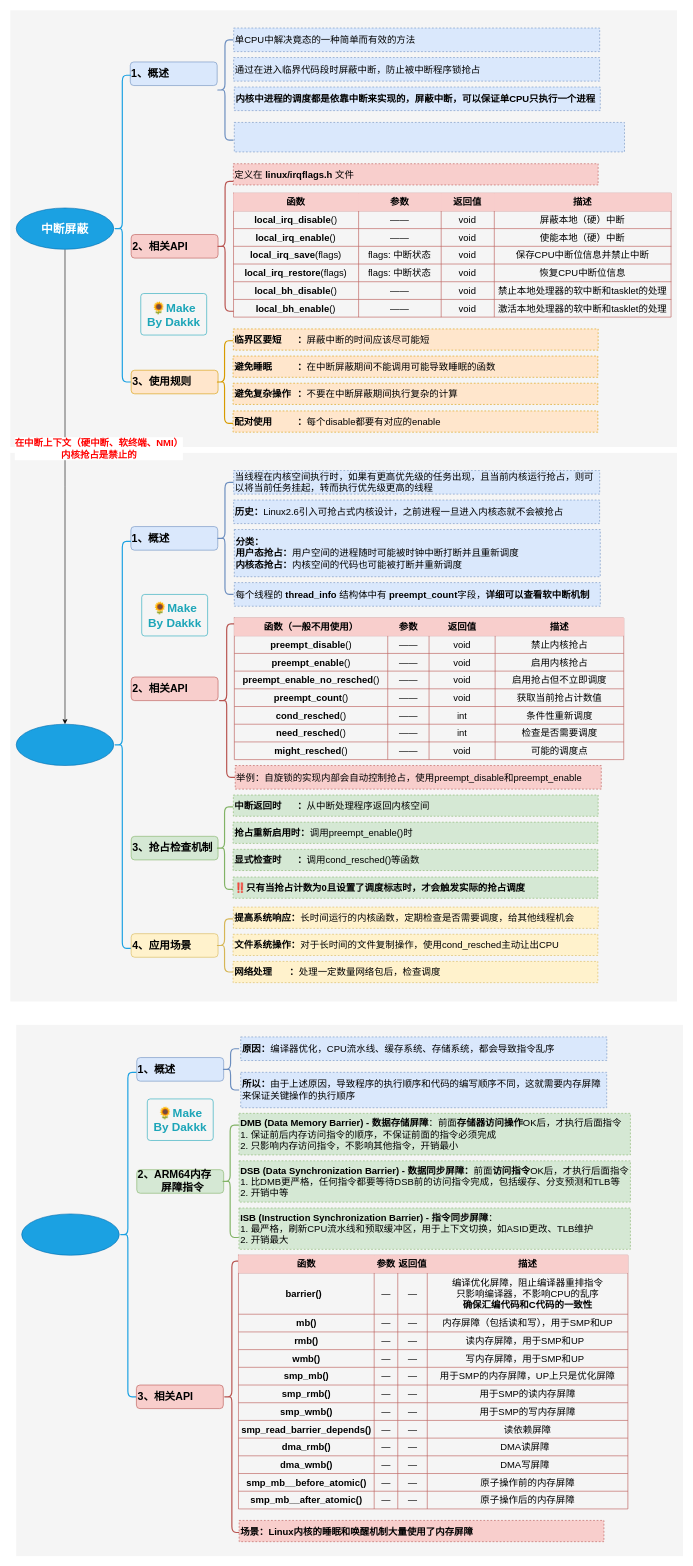
This 693x1566 diagram has some shape labels left out. Each missing label, with the box of its shape:
‼️由于Linux异步 I/O、进度调度等很多重要操作都依赖与中断，中断对于内核运行十分重要 ‼️ 所以 避免长时间屏蔽中断，否则可能造成数据丢失乃至系统崩溃: (234, 122, 625, 152)
内存屏障: (21, 1213, 119, 1255)
内核抢占: (16, 724, 114, 766)
